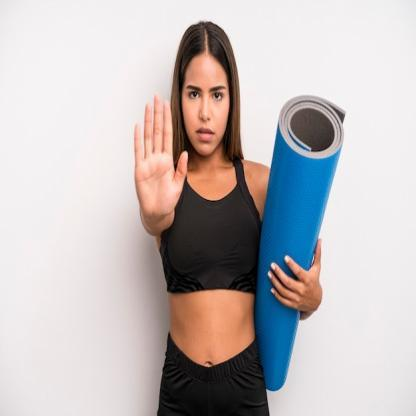stop: (131, 92, 192, 230)
